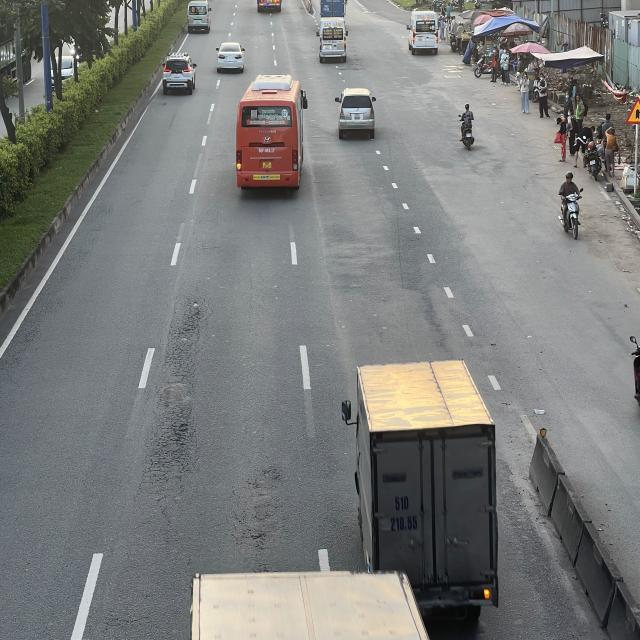car: (335, 85, 377, 136), (165, 53, 200, 93), (215, 44, 246, 74)
coach: (238, 73, 309, 194)
truck: (348, 365, 496, 604)
van: (316, 21, 348, 59), (408, 18, 440, 55), (188, 1, 212, 32)
